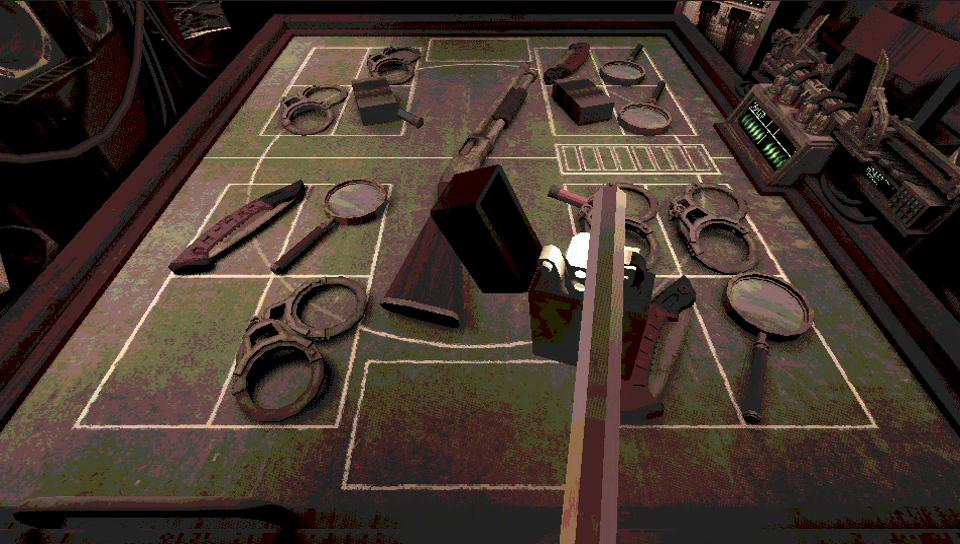ally: (3, 154, 959, 541)
cigar: (553, 74, 615, 125), (350, 77, 399, 127)
doubledamage: (169, 180, 304, 274), (546, 39, 589, 78)
emptyspace: (78, 275, 270, 425), (292, 48, 363, 86)
enemyspace: (212, 31, 729, 143)
gun: (384, 87, 526, 332)
handcuff: (231, 277, 366, 423), (670, 183, 759, 274), (283, 85, 348, 134), (367, 47, 421, 83)
lens: (722, 272, 813, 423), (270, 178, 390, 273), (616, 81, 677, 135), (598, 43, 646, 86)
